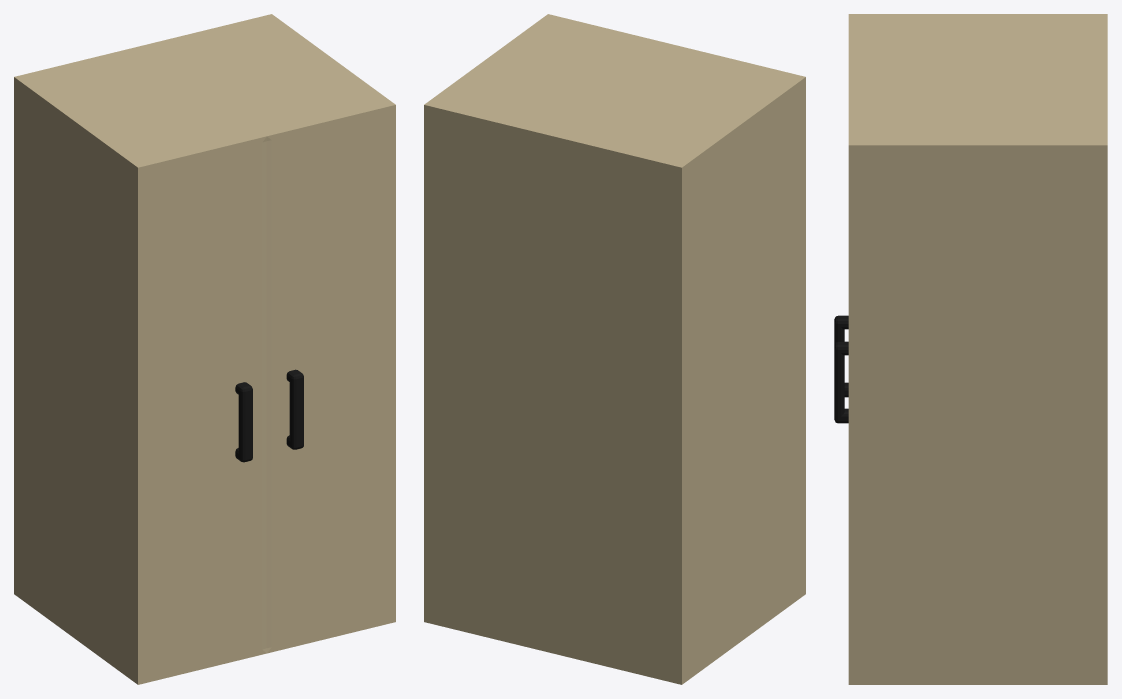
File: Locker.glb
3 renders of one model, left to right at view 1: azimuth 30°, elevation 25°; view 2: azimuth 150°, elevation 25°; view 3: azimuth 270°, elevation 25°, orthographic. The views are drawn at different scales.
Visible parts, largest first — view 1: Locker; view 2: Locker; view 3: Locker.
Boxes of the visible parts, x1,y1,x2,y2 form: Locker: [14, 14, 395, 684]; Locker: [424, 14, 805, 684]; Locker: [834, 14, 1107, 684].
Bounding box in the file's own units: 1.2 × 2.3 × 1.05.
